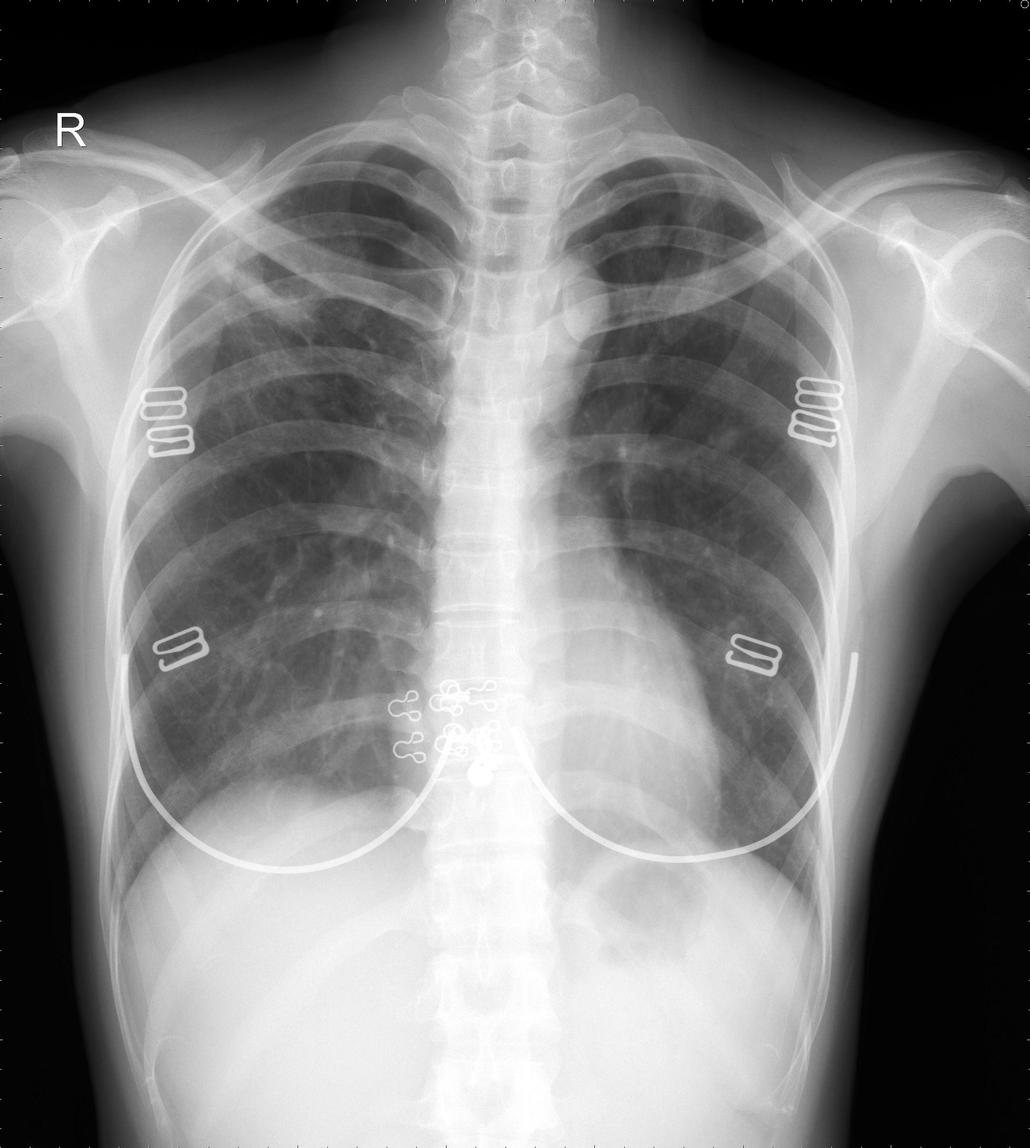Aortic enlargement: (501, 253, 609, 367)
Pulmonary fibrosis: (201, 255, 320, 397), (672, 170, 739, 281)
